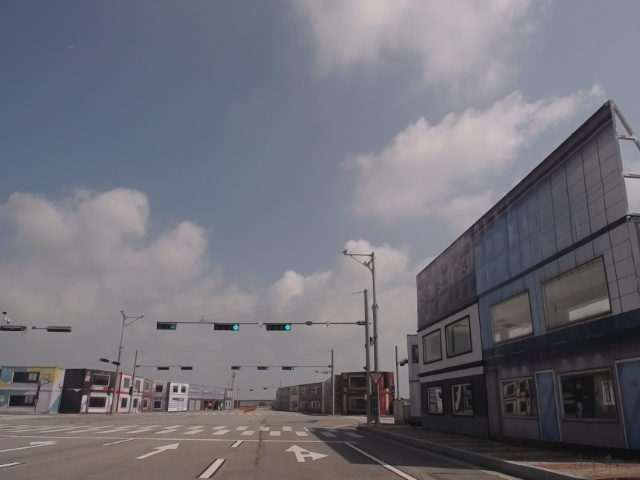straight_green_4: (264, 322, 293, 331), (215, 323, 239, 331)
